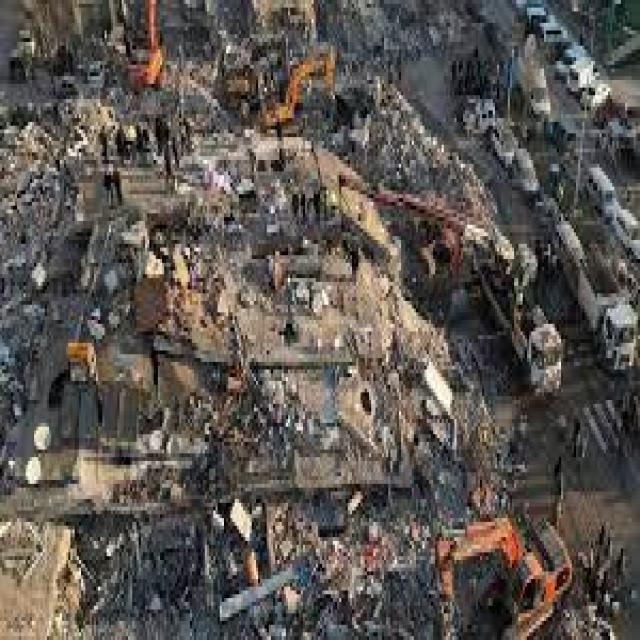Earthquake: (105, 34, 632, 640)
